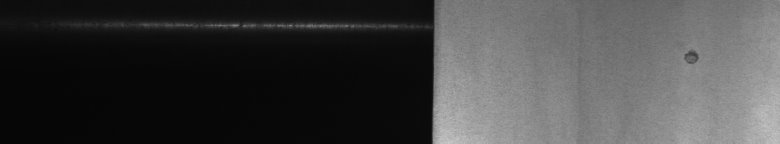fi: (680, 44, 703, 72)
